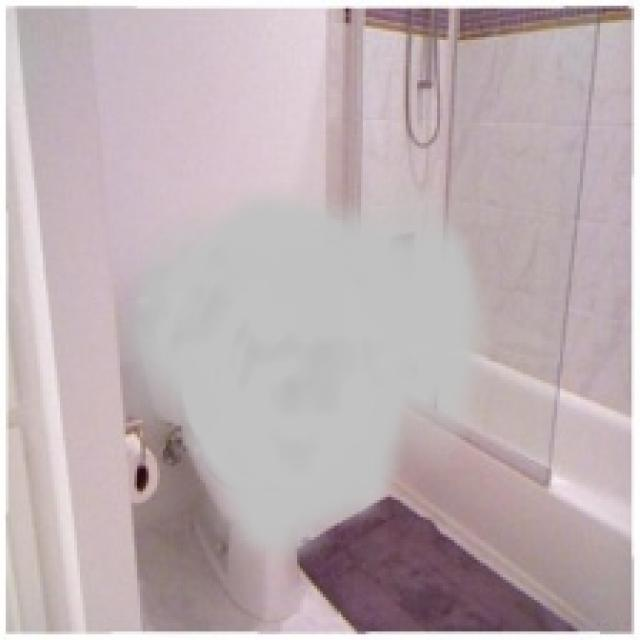smoke: (109, 183, 492, 568)
